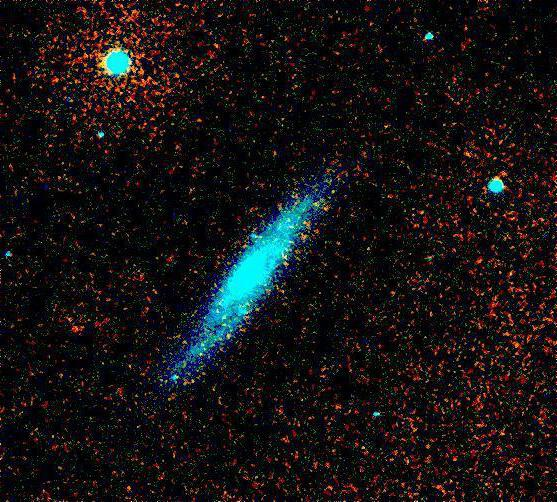star: (367, 112, 397, 142)
